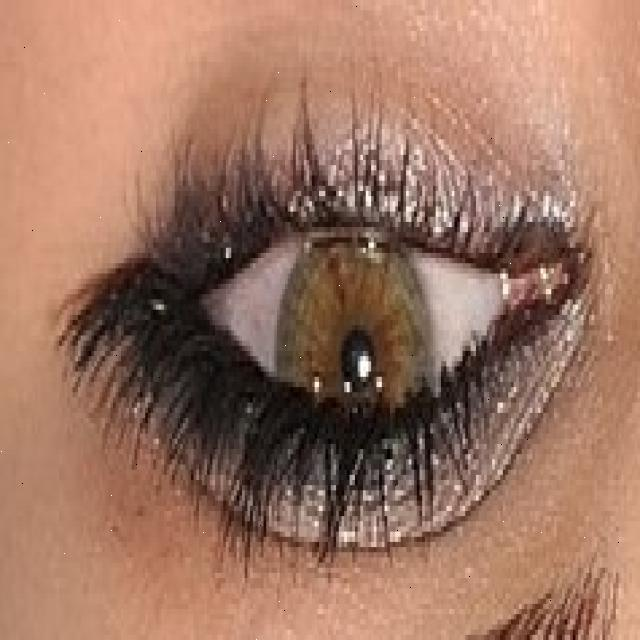Normal: (273, 215, 437, 506)
